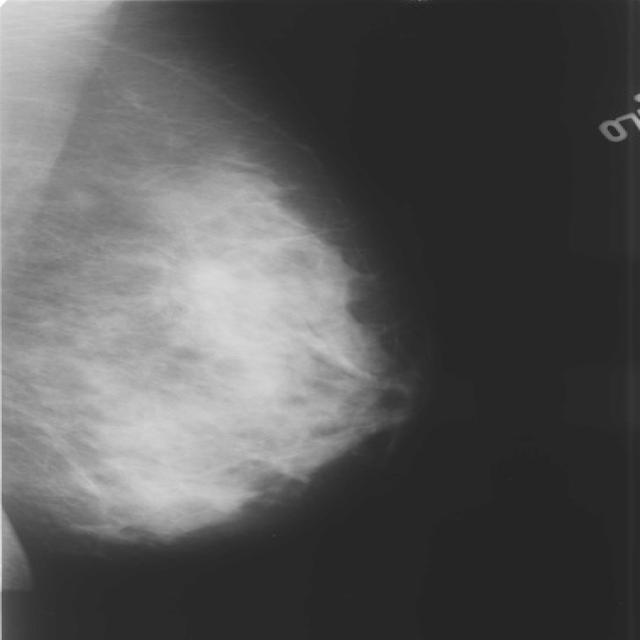tumour: (180, 259, 246, 302)
